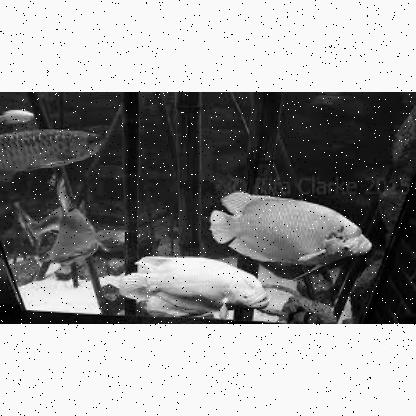gurame: (212, 191, 372, 263), (118, 254, 268, 318)
